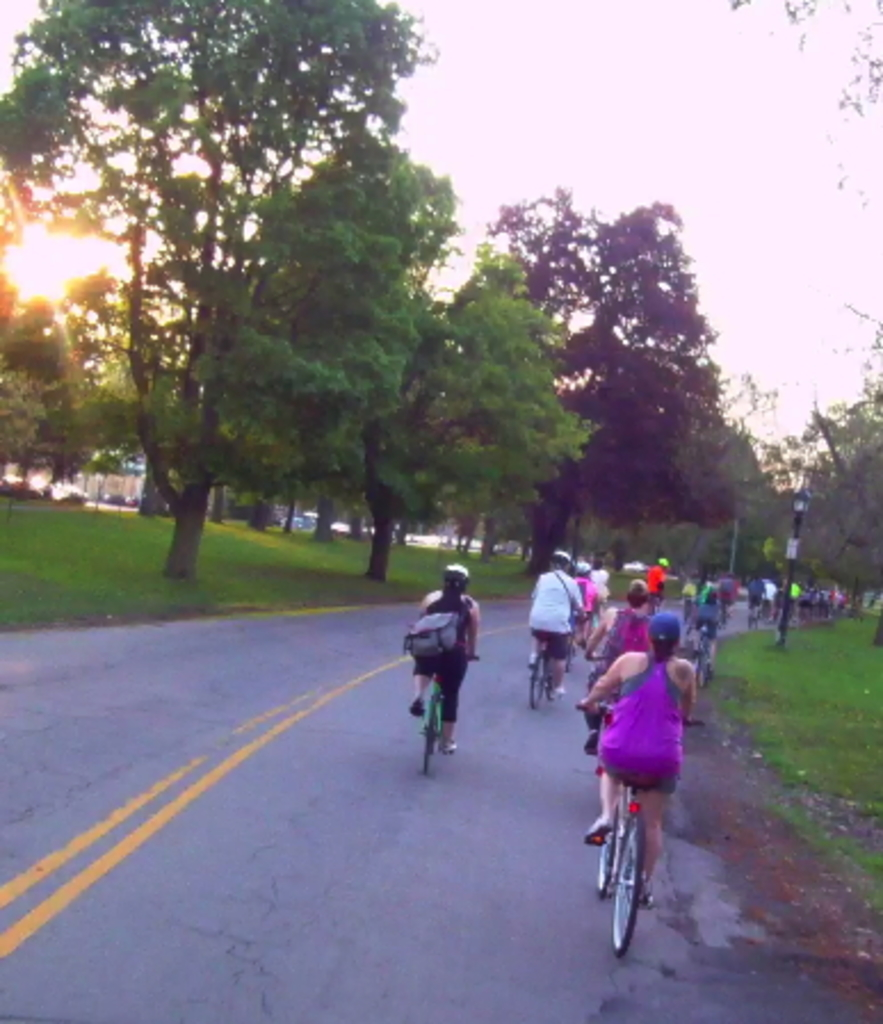Bike_away: (570, 693, 699, 997), (406, 639, 471, 783)
